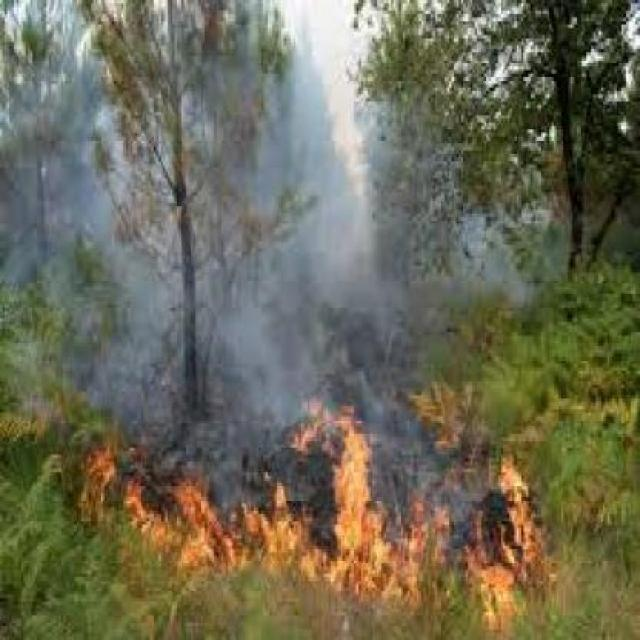Fire: (99, 369, 564, 628)
Smoke: (9, 0, 449, 381)
